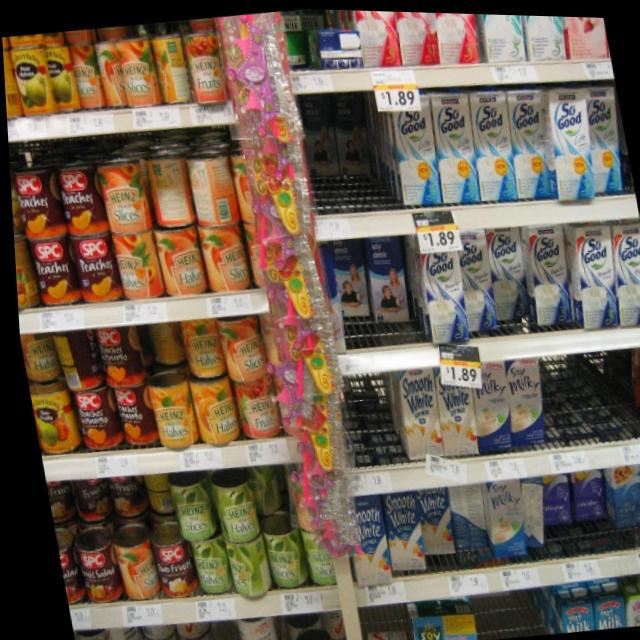q262: (459, 72, 524, 208), (372, 85, 440, 207), (507, 83, 563, 222), (424, 75, 480, 200), (542, 84, 603, 198)
